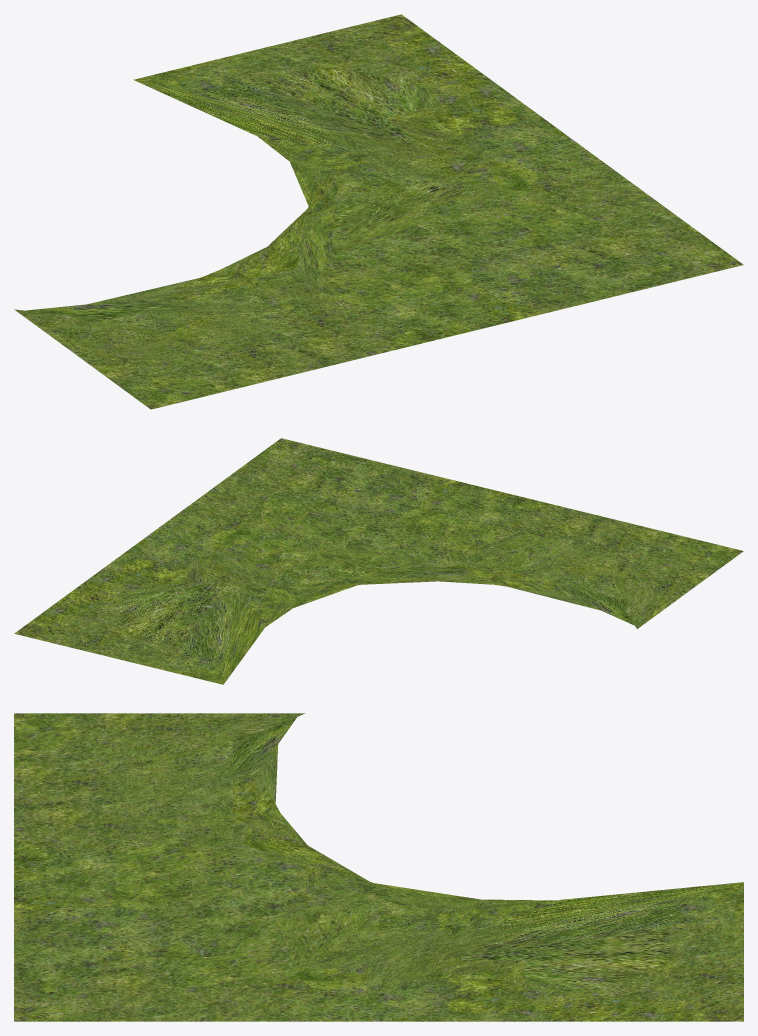
The model's file is Concreto.obj.
The picture shows the model from 3 angles, top to bottom: view 1: azimuth 30°, elevation 25°; view 2: azimuth 150°, elevation 25°; view 3: azimuth 270°, elevation 25°; orthographic projection. The views are drawn at different scales.
Visible parts, largest first — view 1: Piso:pPlane1; view 2: Piso:pPlane1; view 3: Piso:pPlane1.
Part boxes in pixels (x1=…): Piso:pPlane1: x1=14, y1=14, x2=743, y2=409; Piso:pPlane1: x1=14, y1=438, x2=743, y2=684; Piso:pPlane1: x1=14, y1=713, x2=743, y2=1021.
Size of the model in its own units: 31.27 by 0.0462 by 31.27.
1 material, 1 textured.
